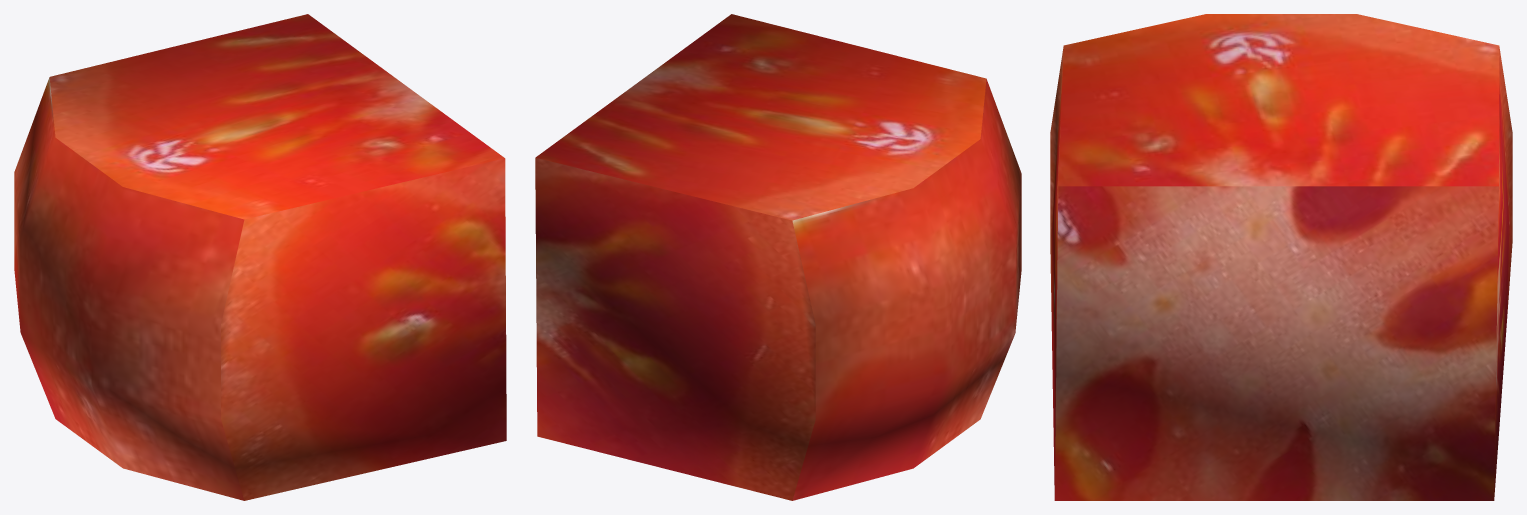
The model's file is TomatoSmallPieces.fbx.
The picture shows the model from 3 angles, left to right: view 1: azimuth 30°, elevation 25°; view 2: azimuth 150°, elevation 25°; view 3: azimuth 270°, elevation 25°; orthographic projection. The views are drawn at different scales.
Visible parts, largest first — view 1: pSphere1; view 2: pSphere1; view 3: pSphere1.
Boxes of the visible parts, x1,y1,x2,y2 form: pSphere1: [14, 14, 506, 500]; pSphere1: [535, 14, 1021, 500]; pSphere1: [1050, 14, 1512, 500].
Bounding box in the file's own units: 0.9203 × 0.7092 × 0.945.
